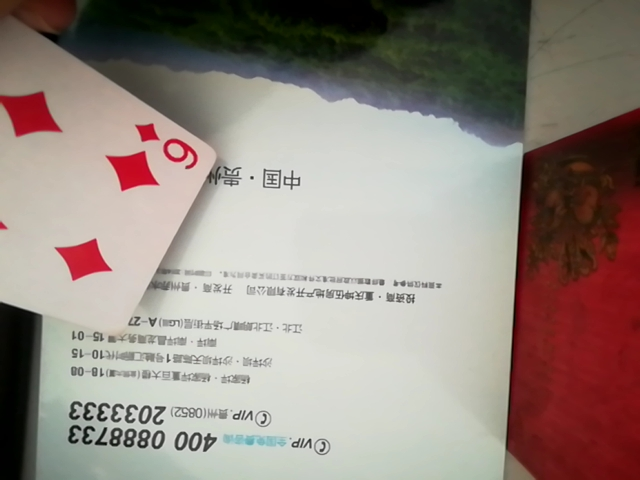fk 6: (0, 9, 223, 344)
